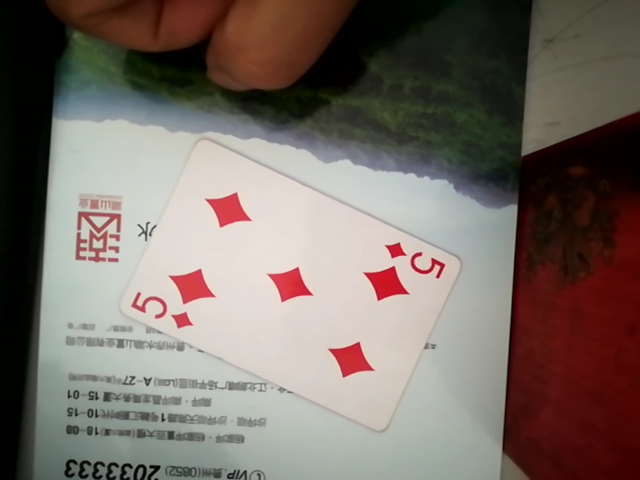fk 5: (108, 125, 471, 427)
